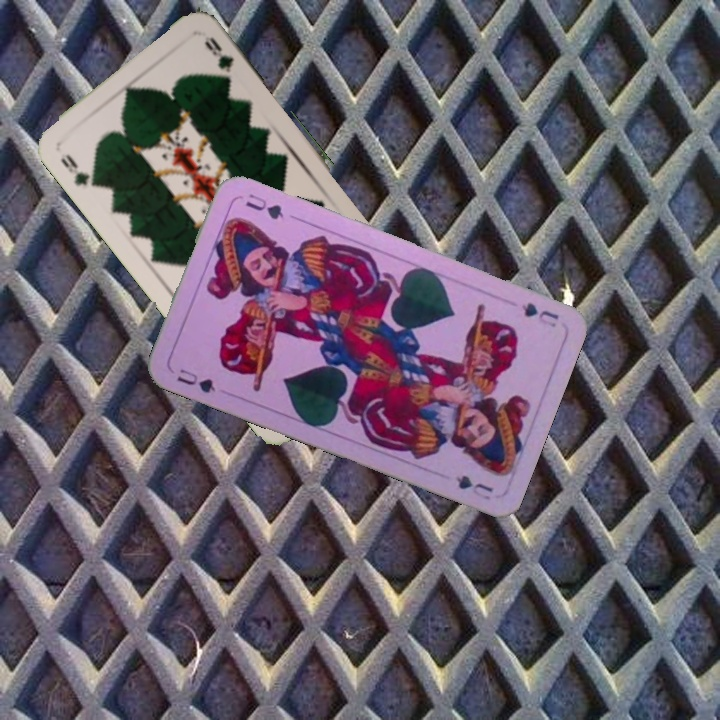G9: (56, 150, 102, 190)
GU: (172, 364, 219, 396), (517, 298, 561, 330)
